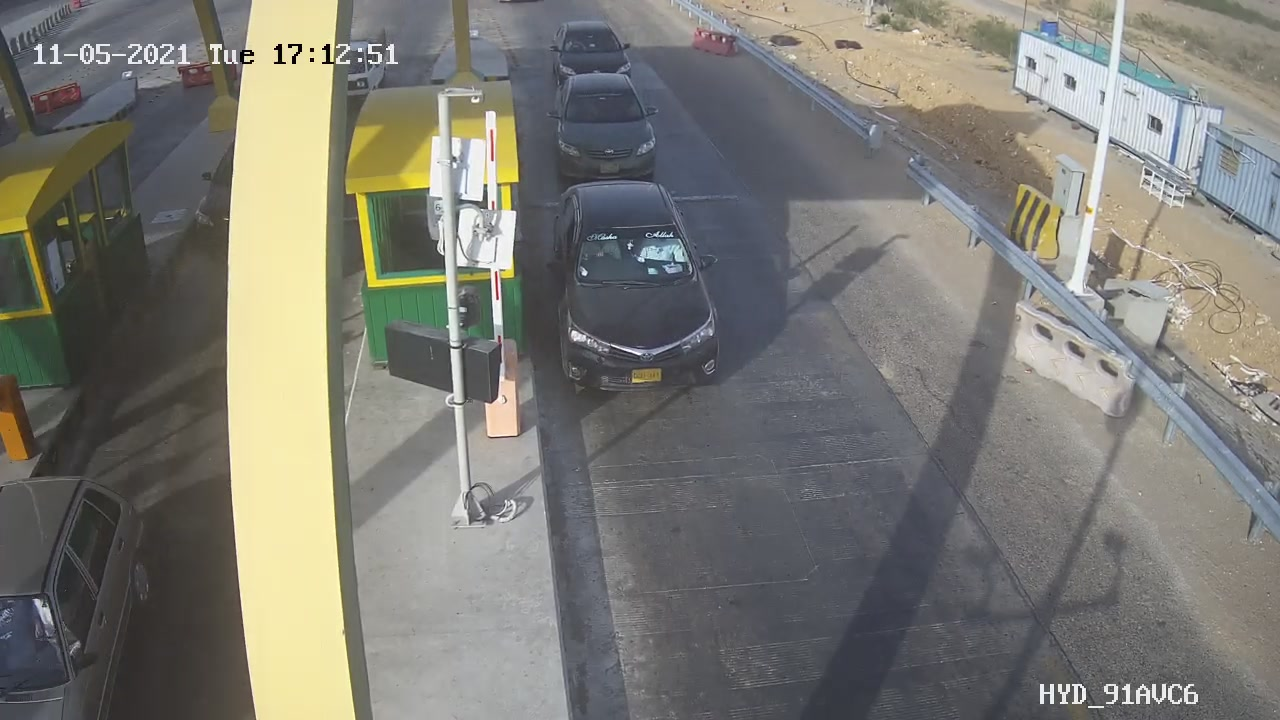F1: (531, 162, 748, 409), (531, 60, 676, 192)
